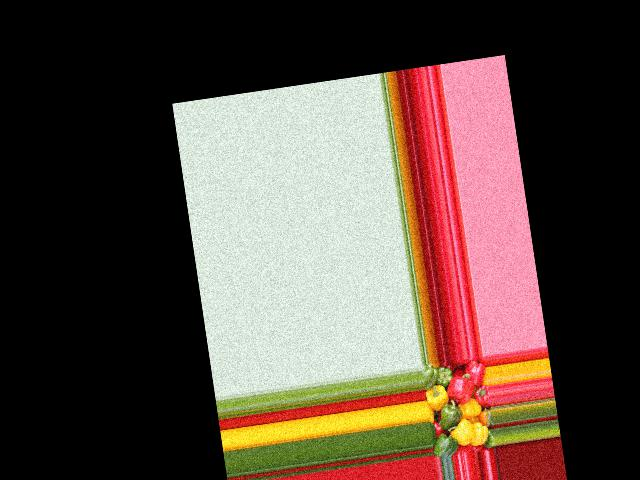bell_pepper: (483, 425, 497, 447)
